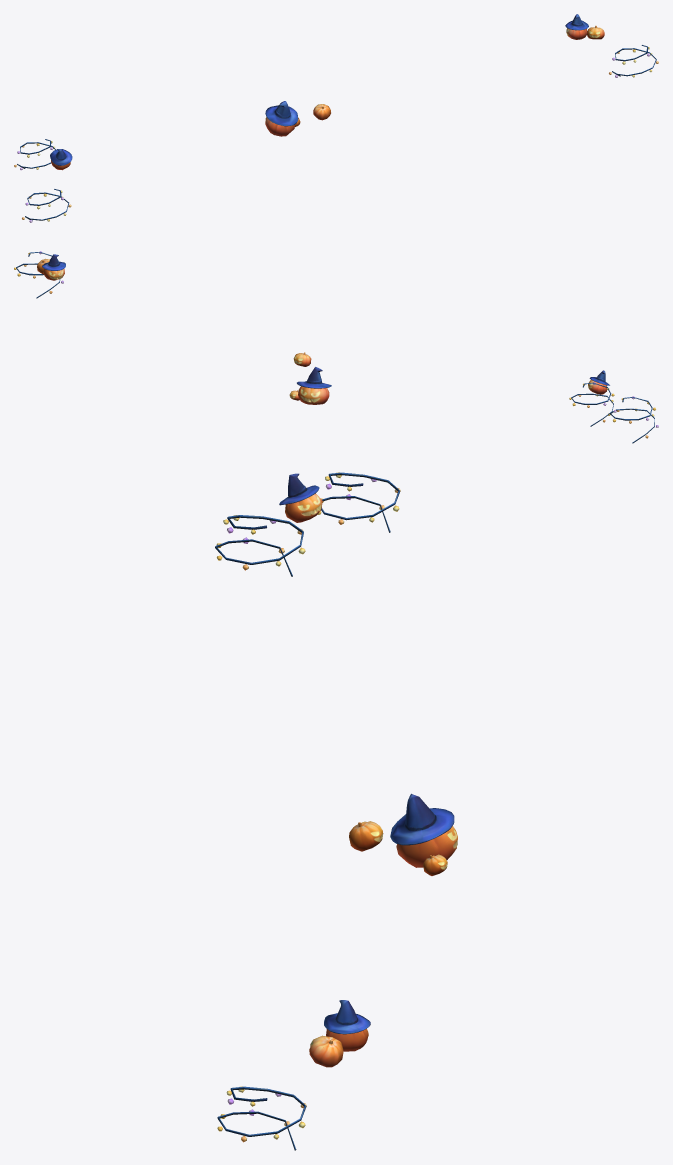
The model's file is pref_sm_4v4beachtech_WSJ_bk_decorate_D01_lv2.fbx.
3 views of the same model, one above another, from view 1: azimuth 30°, elevation 25°; view 2: azimuth 150°, elevation 25°; view 3: azimuth 270°, elevation 25° (orthographic). The views are drawn at different scales.
Parts seen in each view (by area): view 1: sm_4v4beachtech_WSJ_bk_decorate_D01_b_lv2, sm_4v4beachtech_WSJ_bk_decorate_D01_a_lv2; view 2: sm_4v4beachtech_WSJ_bk_decorate_D01_b_lv2, sm_4v4beachtech_WSJ_bk_decorate_D01_a_lv2; view 3: sm_4v4beachtech_WSJ_bk_decorate_D01_b_lv2, sm_4v4beachtech_WSJ_bk_decorate_D01_a_lv2.
Boxes of the visible parts, <box> form: sm_4v4beachtech_WSJ_bk_decorate_D01_b_lv2: <box>50,14,604,170</box>; sm_4v4beachtech_WSJ_bk_decorate_D01_a_lv2: <box>14,45,658,222</box>; sm_4v4beachtech_WSJ_bk_decorate_D01_b_lv2: <box>37,254,609,404</box>; sm_4v4beachtech_WSJ_bk_decorate_D01_a_lv2: <box>14,251,658,443</box>; sm_4v4beachtech_WSJ_bk_decorate_D01_b_lv2: <box>279,473,457,1067</box>; sm_4v4beachtech_WSJ_bk_decorate_D01_a_lv2: <box>215,472,400,1150</box>.
Bounding box in the file's own units: 38.91 × 4.14 × 6.5.
